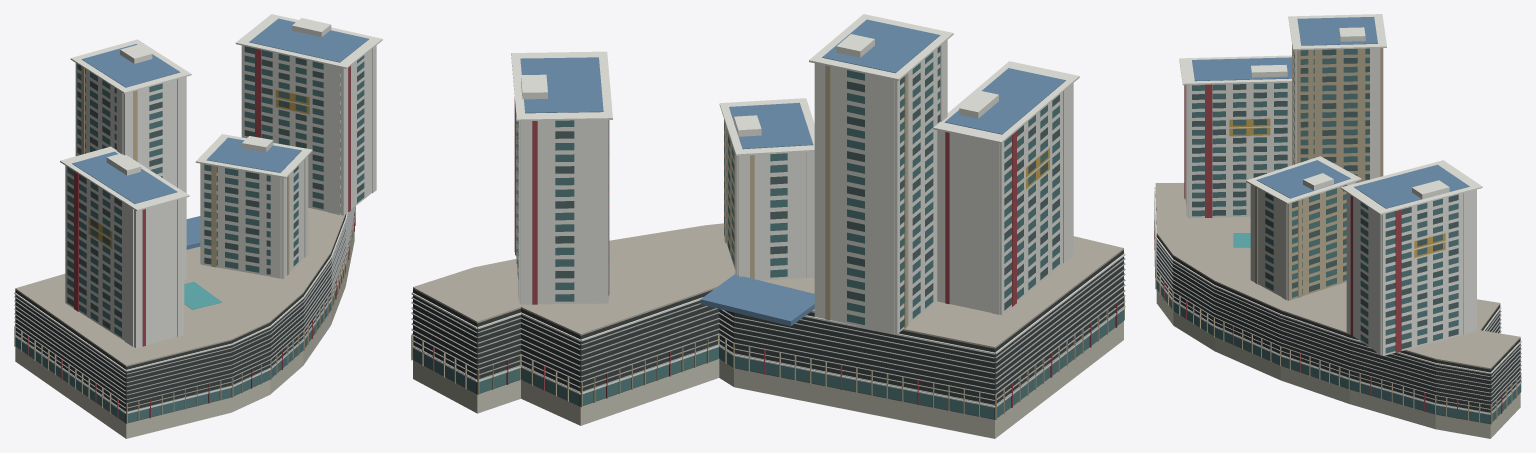
Rendered from residensi_lod2.glb.
3 views of the same model, side by side, from view 1: azimuth 30°, elevation 25°; view 2: azimuth 150°, elevation 25°; view 3: azimuth 270°, elevation 25° (orthographic). The views are drawn at different scales.
Parts seen in each view (by area): view 1: PaintWhite, Glass, Paving, Dark, RoofBlue, Screen, Stone, GlassDark, PaintWarm, Burgundy, GoldPanels, Pool; view 2: PaintWhite, Dark, Paving, Glass, RoofBlue, Screen, Stone, PaintWarm, GlassDark, Burgundy; view 3: PaintWhite, Glass, Dark, PaintWarm, Paving, RoofBlue, Screen, GlassDark, Stone, Burgundy, GoldPanels.
Boxes of the visible parts, left/top/right/bottom form: PaintWhite: left=14, top=14, right=382, bottom=413; Glass: left=15, top=50, right=364, bottom=422; Paving: left=15, top=207, right=345, bottom=366; Dark: left=15, top=213, right=346, bottom=423; RoofBlue: left=72, top=18, right=368, bottom=249; Screen: left=14, top=206, right=355, bottom=412; Stone: left=15, top=231, right=354, bottom=438; GlassDark: left=67, top=46, right=364, bottom=329; PaintWarm: left=14, top=66, right=355, bottom=423; Burgundy: left=27, top=48, right=354, bottom=418; GoldPanels: left=88, top=90, right=309, bottom=248; Pool: left=184, top=282, right=222, bottom=309; PaintWhite: left=411, top=14, right=1125, bottom=407; Dark: left=413, top=250, right=1123, bottom=419; Paving: left=413, top=223, right=1123, bottom=348; Glass: left=412, top=52, right=1124, bottom=419; RoofBlue: left=520, top=19, right=1065, bottom=326; Screen: left=411, top=257, right=1125, bottom=405; Stone: left=413, top=321, right=1123, bottom=438; PaintWarm: left=411, top=65, right=1124, bottom=419; GlassDark: left=516, top=46, right=1059, bottom=329; Burgundy: left=433, top=98, right=1117, bottom=407; PaintWhite: left=1154, top=14, right=1521, bottom=414; Glass: left=1156, top=48, right=1520, bottom=423; Dark: left=1155, top=195, right=1520, bottom=424; PaintWarm: left=1154, top=44, right=1521, bottom=424; Paving: left=1155, top=183, right=1520, bottom=369; RoofBlue: left=1192, top=17, right=1469, bottom=208; Screen: left=1154, top=191, right=1521, bottom=413; GlassDark: left=1192, top=49, right=1458, bottom=349; Stone: left=1156, top=289, right=1520, bottom=438; Burgundy: left=1154, top=84, right=1502, bottom=418; GoldPanels: left=1229, top=118, right=1445, bottom=257.
Size of the model in its own units: 144 by 98.07 by 119.
